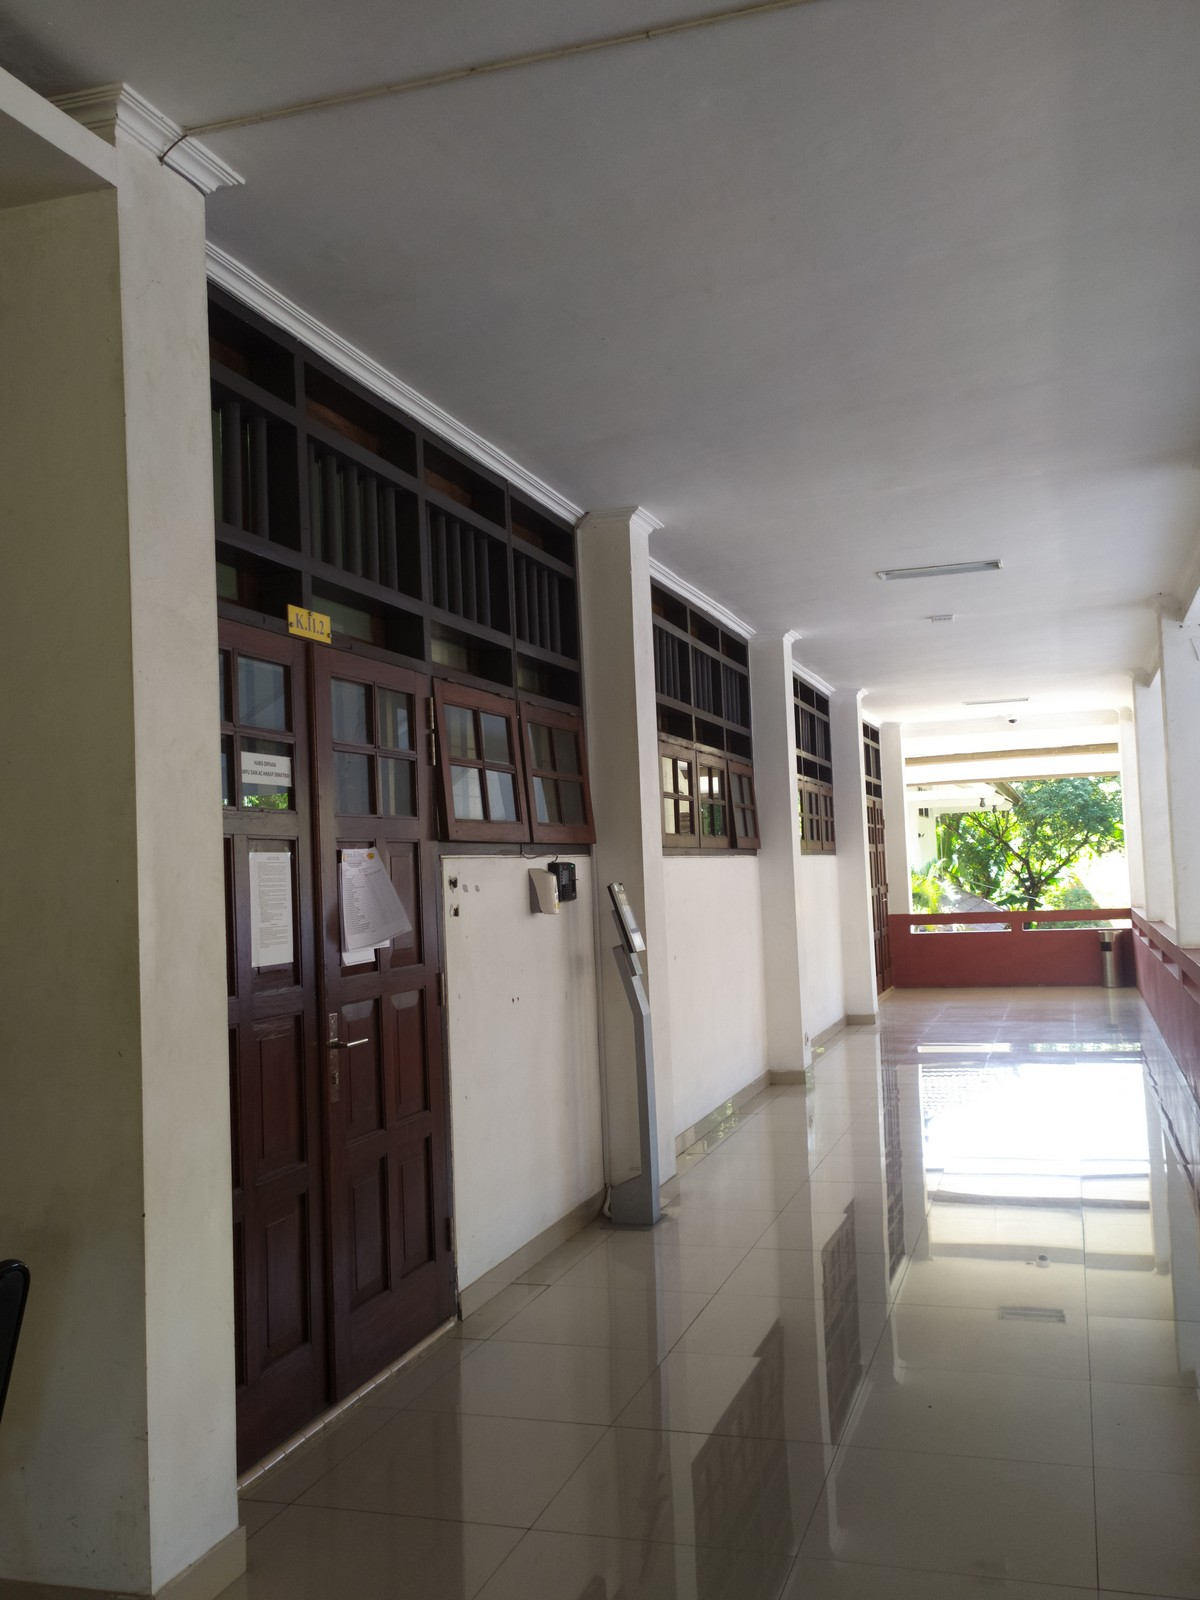concrete column: (574, 500, 679, 1230), (744, 620, 823, 1096), (827, 682, 891, 1032)
